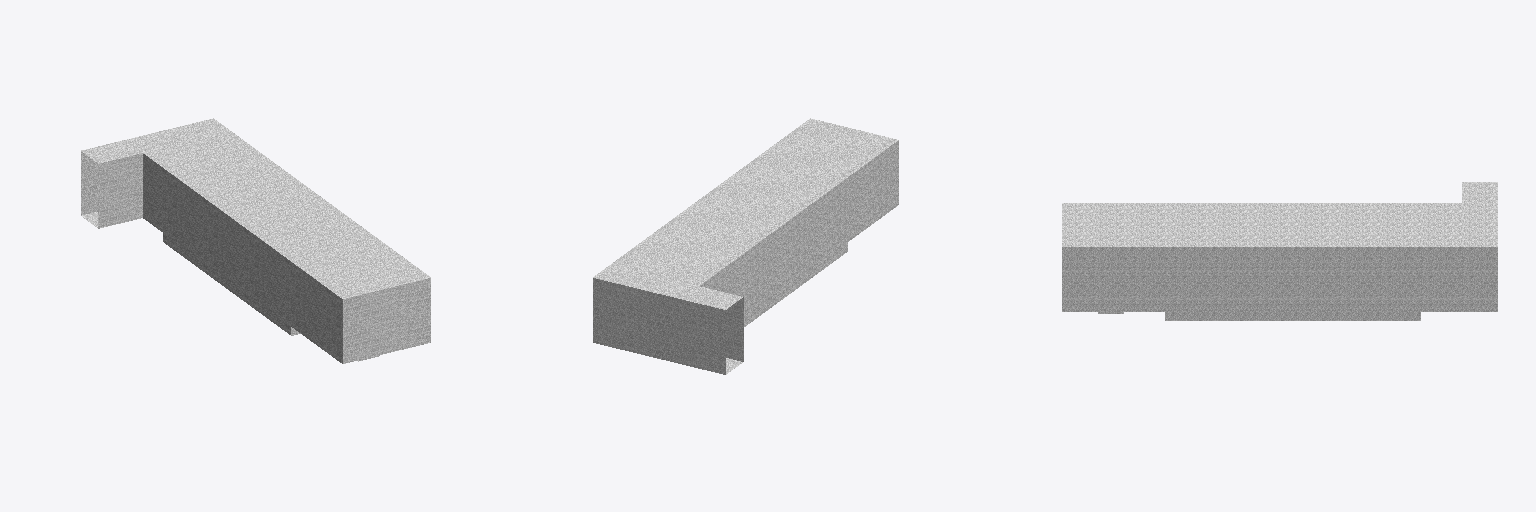
3 renders of one model, left to right at view 1: azimuth 30°, elevation 25°; view 2: azimuth 150°, elevation 25°; view 3: azimuth 270°, elevation 25°, orthographic.
Parts seen in each view (by area): view 1: Level2.2; view 2: Level2.2; view 3: Level2.2.
Boxes of the visible parts, box(x1,y1,x2,y2) form: Level2.2: box(81, 118, 430, 363); Level2.2: box(593, 118, 898, 374); Level2.2: box(1062, 182, 1497, 320).
Size of the model in its own units: 15 by 9 by 42.5.
1 materials, 1 textured.